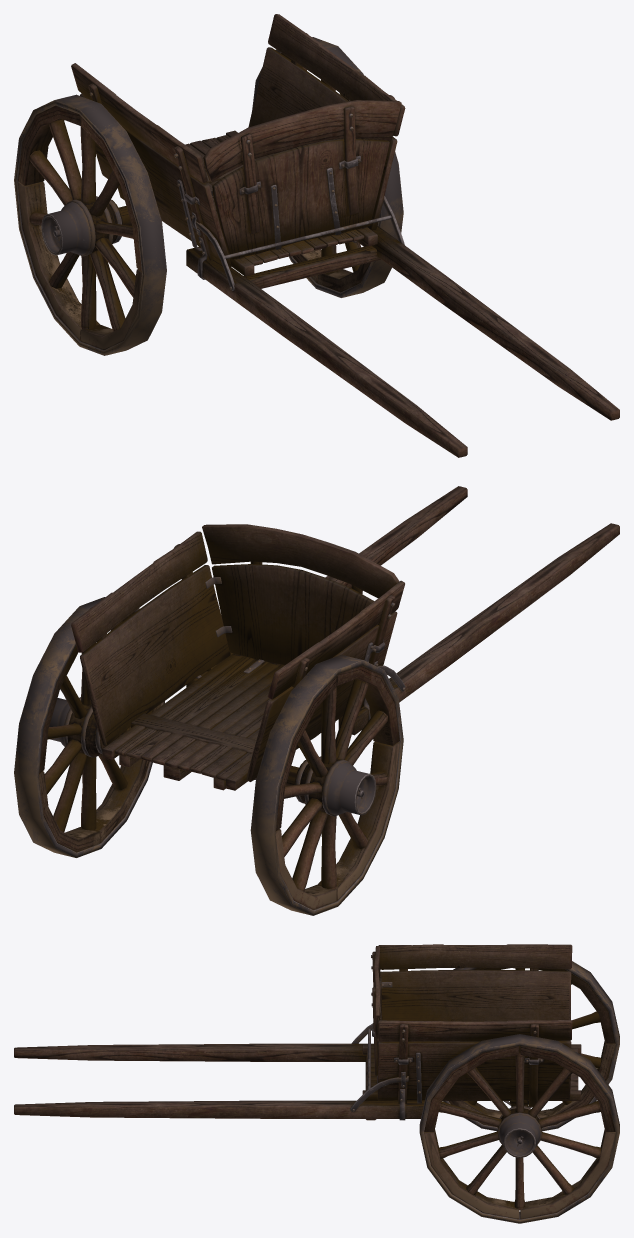
3 views of the same model, one above another, from view 1: azimuth 30°, elevation 25°; view 2: azimuth 150°, elevation 25°; view 3: azimuth 270°, elevation 25° (orthographic). The views are drawn at different scales.
Parts seen in each view (by area): view 1: MedievalCart_Base, MedievalCart_wheelLeft, MedievalCart_wheelRight; view 2: MedievalCart_Base, MedievalCart_wheelLeft, MedievalCart_wheelRight; view 3: MedievalCart_Base, MedievalCart_wheelRight, MedievalCart_wheelLeft.
Boxes of the visible parts, box(x1,y1,x2,y2) form: MedievalCart_Base: box(71, 14, 619, 457); MedievalCart_wheelLeft: box(14, 94, 166, 355); MedievalCart_wheelRight: box(252, 37, 403, 297); MedievalCart_Base: box(71, 486, 619, 790); MedievalCart_wheelLeft: box(250, 654, 403, 915); MedievalCart_wheelRight: box(14, 597, 164, 857); MedievalCart_Base: box(14, 944, 581, 1120); MedievalCart_wheelRight: box(419, 1034, 619, 1223); MedievalCart_wheelLeft: box(443, 961, 619, 1131).
Bounding box in the file's own units: 2.66 × 2.2 × 5.82.
1 material, 1 textured.
